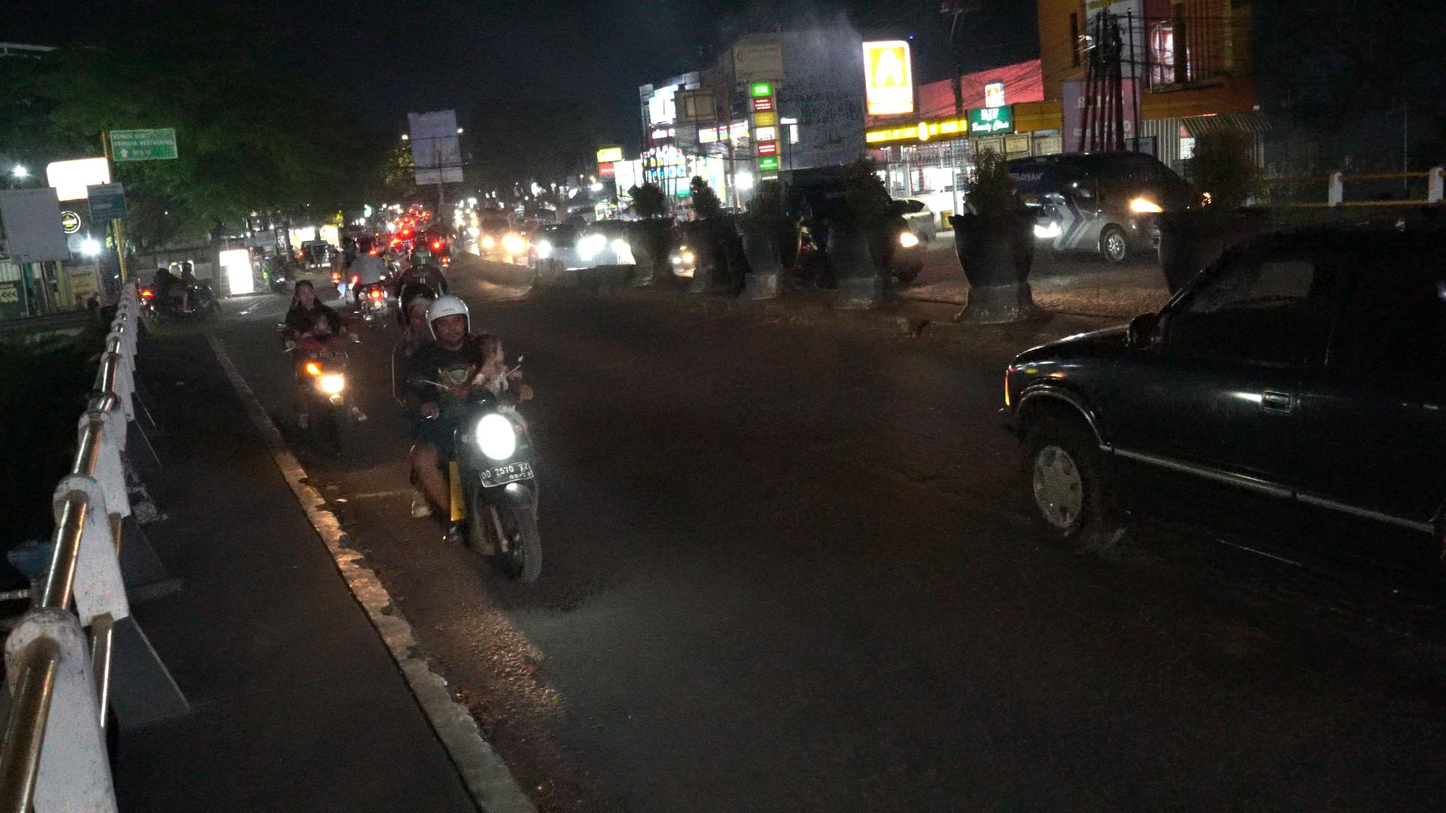number-plate: (477, 456, 536, 487)
